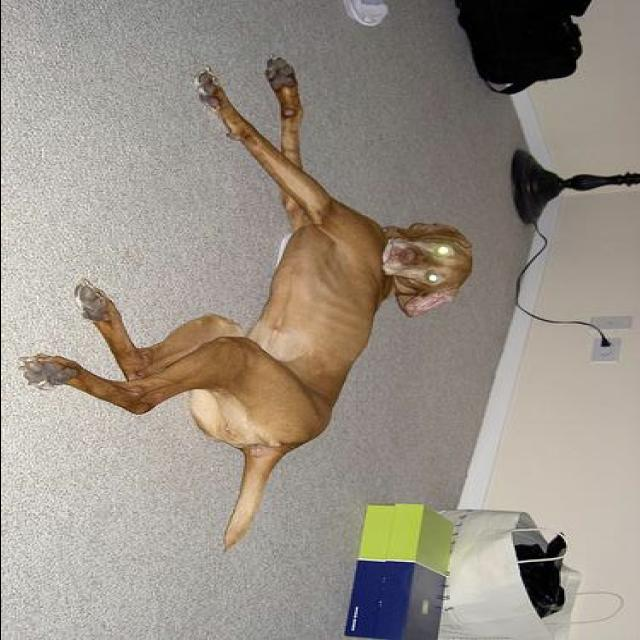vizsla: (19, 52, 478, 554)
